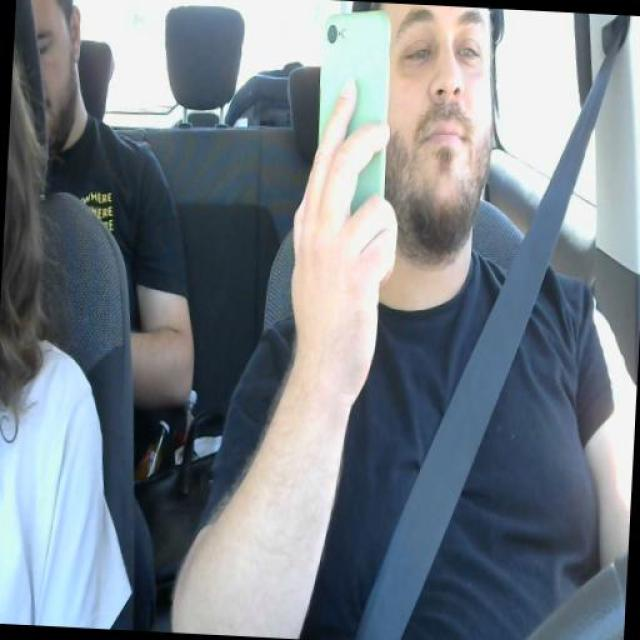phone: (317, 13, 392, 218)
